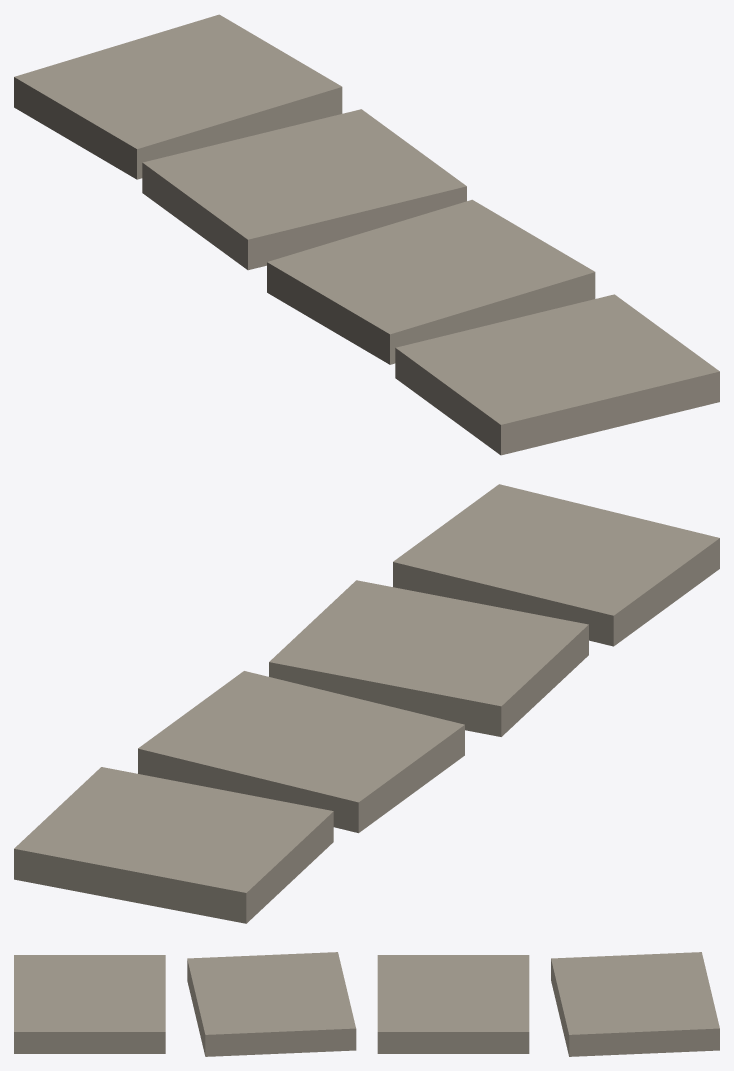
File: garden2_garden_path.glb
3 renders of one model, top to bottom at view 1: azimuth 30°, elevation 25°; view 2: azimuth 150°, elevation 25°; view 3: azimuth 270°, elevation 25°, orthographic. The views are drawn at different scales.
Parts seen in each view (by area): view 1: garden_path; view 2: garden_path; view 3: garden_path.
Part boxes in pixels (box(x1,y1,x2,y2)): garden_path: box(14, 14, 719, 455); garden_path: box(14, 484, 719, 923); garden_path: box(14, 952, 719, 1056).
Bounding box in the file's own units: 0.3235 × 0.04 × 1.16.
